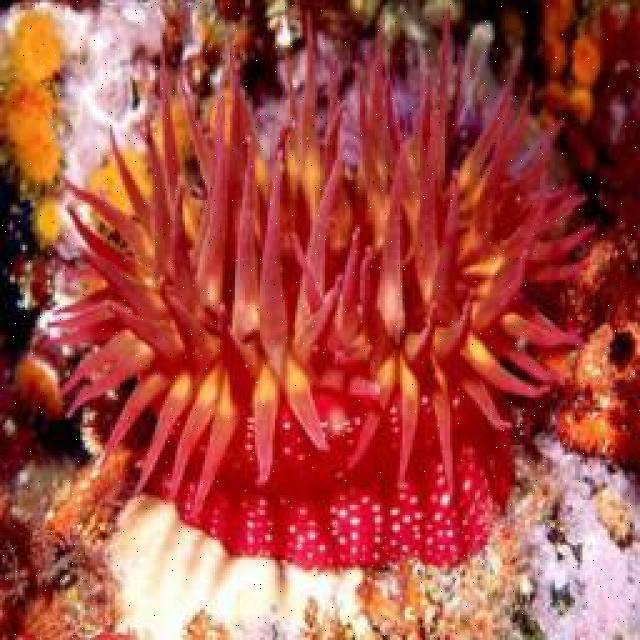reefs: (27, 0, 601, 571)
